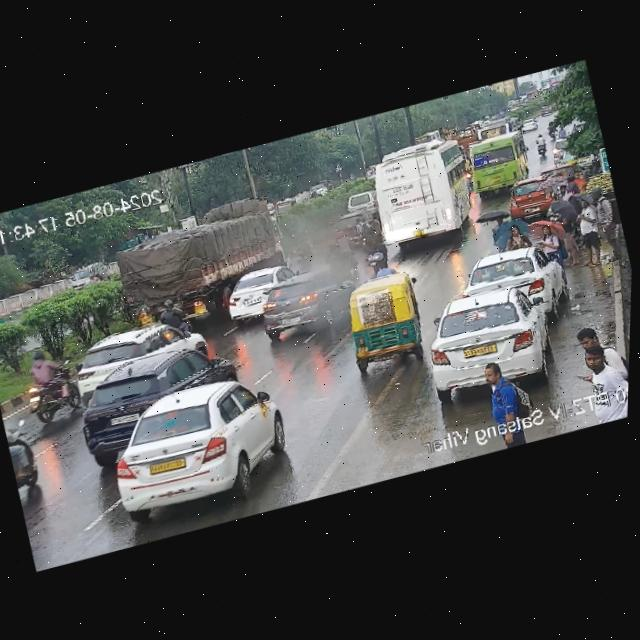bus: (360, 125, 490, 257), (457, 127, 536, 199), (474, 111, 521, 141)
car: (95, 364, 299, 521), (68, 336, 244, 461), (418, 277, 572, 402), (53, 314, 197, 397), (337, 268, 434, 372), (456, 239, 564, 318), (257, 266, 345, 343), (217, 262, 300, 322), (1, 414, 52, 499), (504, 173, 557, 219), (67, 258, 106, 291), (344, 188, 379, 221), (516, 117, 541, 135), (0, 298, 7, 328)
motorcycle: (17, 342, 84, 428), (154, 286, 199, 331), (358, 220, 389, 271), (533, 131, 548, 158), (89, 271, 101, 282)
person: (555, 321, 622, 390), (475, 350, 525, 418), (570, 194, 609, 261), (590, 186, 626, 258), (505, 216, 555, 250), (557, 204, 585, 264), (550, 179, 578, 208), (489, 211, 508, 235)
truck: (101, 200, 287, 324)
